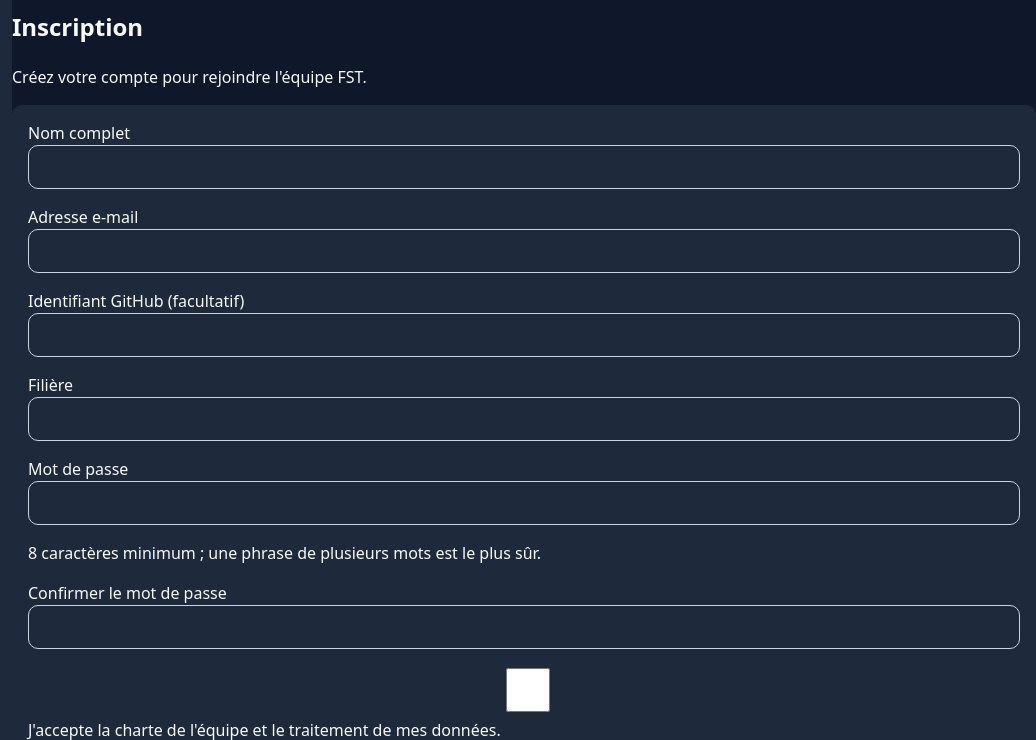
Inscription › refuse un mot de passe trop faible, côté navigateur
The width and height of the screenshot is (1036, 740).
Type "Aïcha Mint Ahmed" into the field labelled "Nom complet" at (524, 167), box [28, 145, 1020, 189]
Type "aicha@example.com" into the field labelled "Adresse e-mail" at (524, 251), box [28, 229, 1020, 273]
Type "sable-dromadaire-7-lune" into the password field labelled "Mot de passe" at (524, 503), box [28, 481, 1020, 525]
(page scrolled)
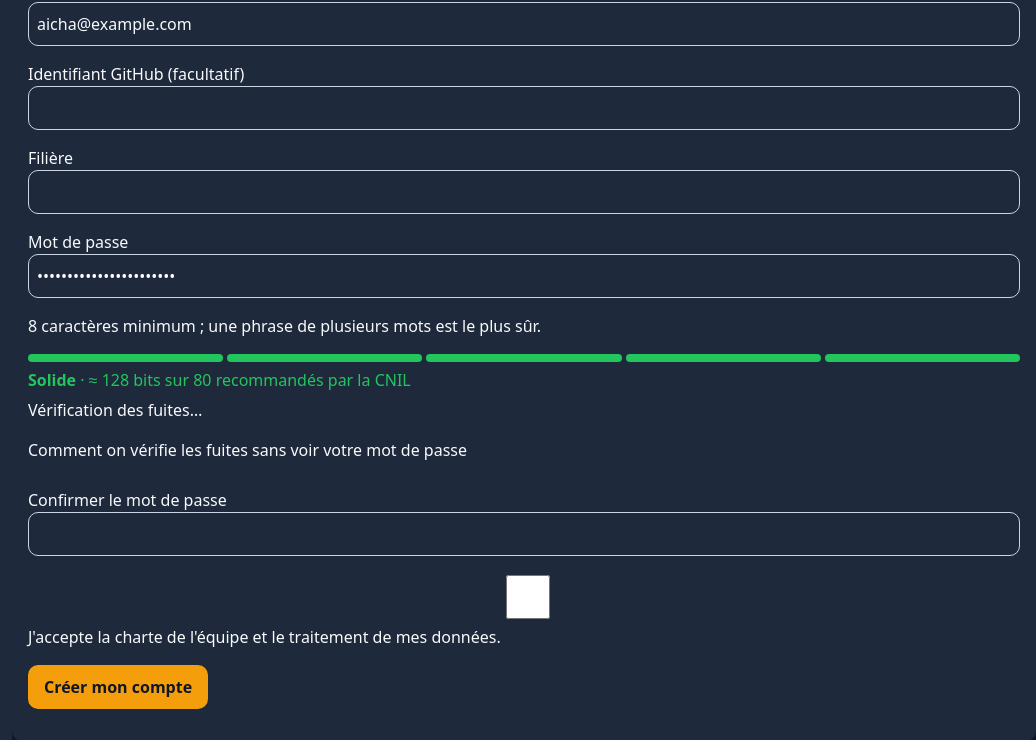
Type "sable-dromadaire-7-lune" into the password field labelled "Confirmer le mot de passe" at (524, 534), box [28, 512, 1020, 556]
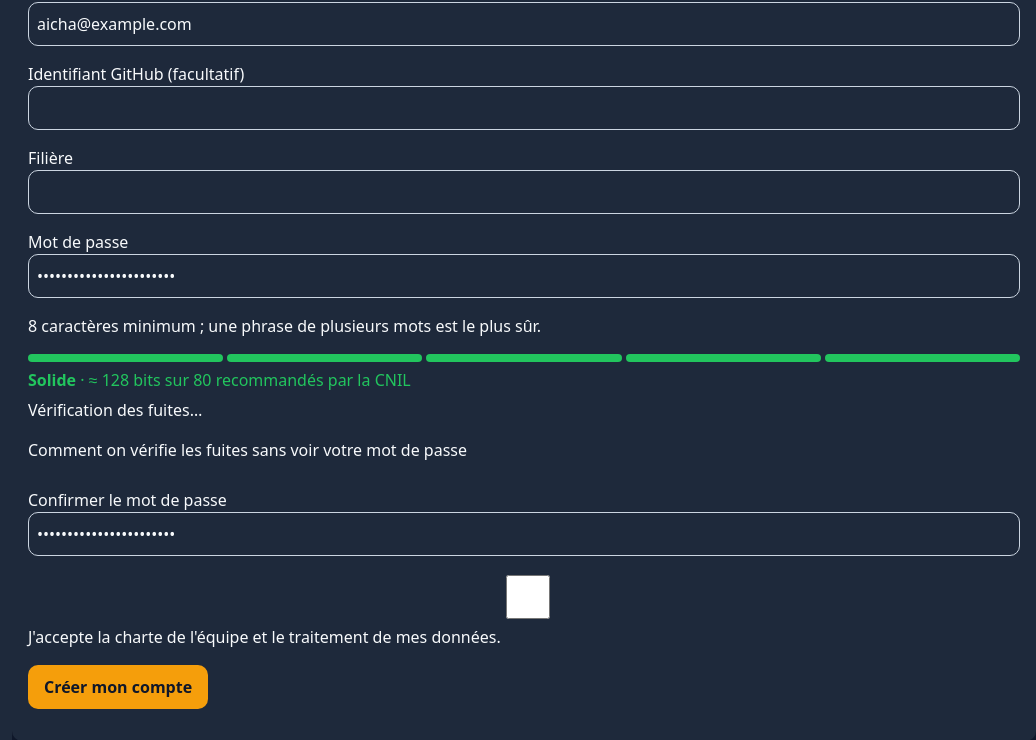
Click the checkbox labelled "J'accepte la charte" at (528, 597), box [32, 575, 1024, 619]
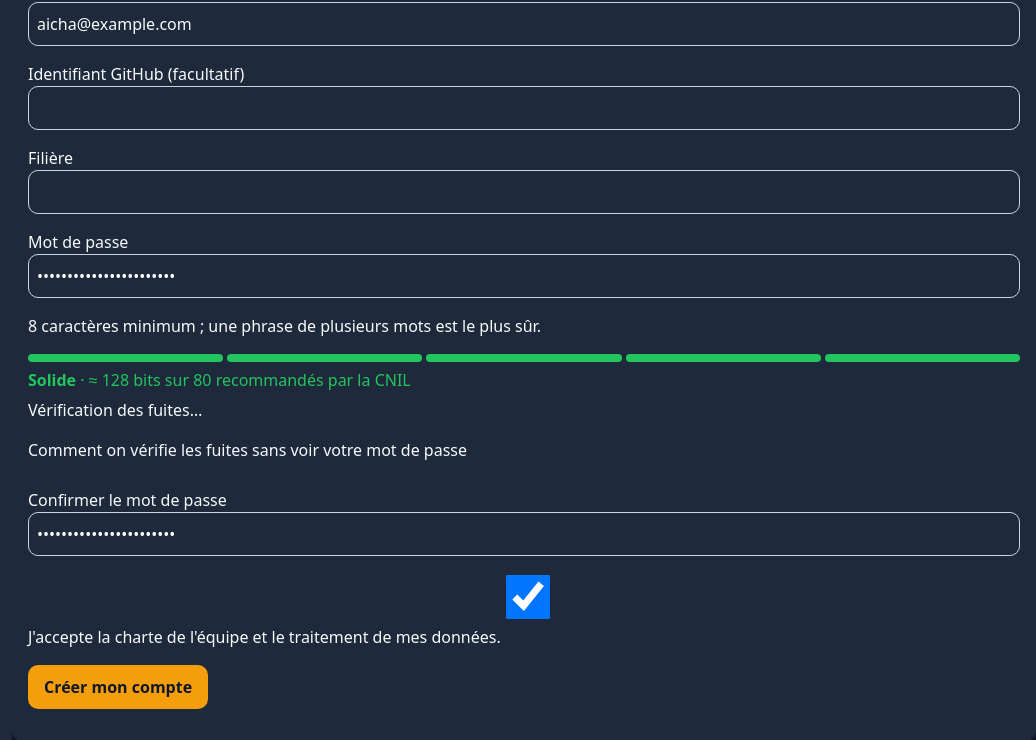
Type "Nouakchott2026" into the password field labelled "Mot de passe" at (524, 276), box [28, 254, 1020, 298]
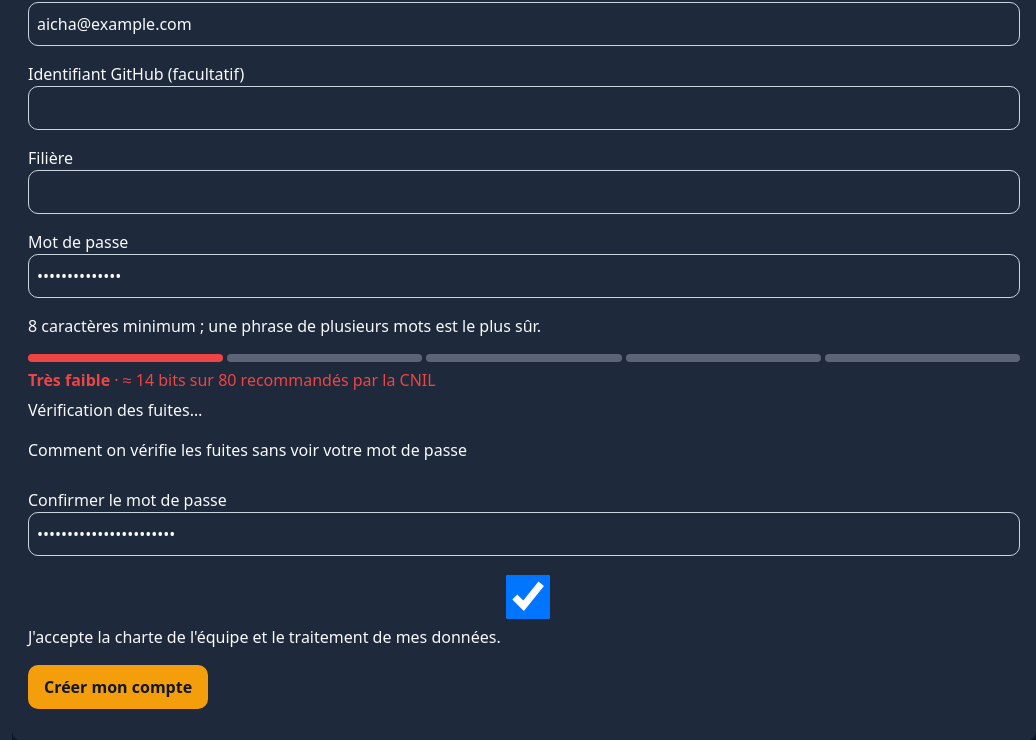
Type "Nouakchott2026" into the password field labelled "Confirmer le mot de passe" at (524, 534), box [28, 512, 1020, 556]
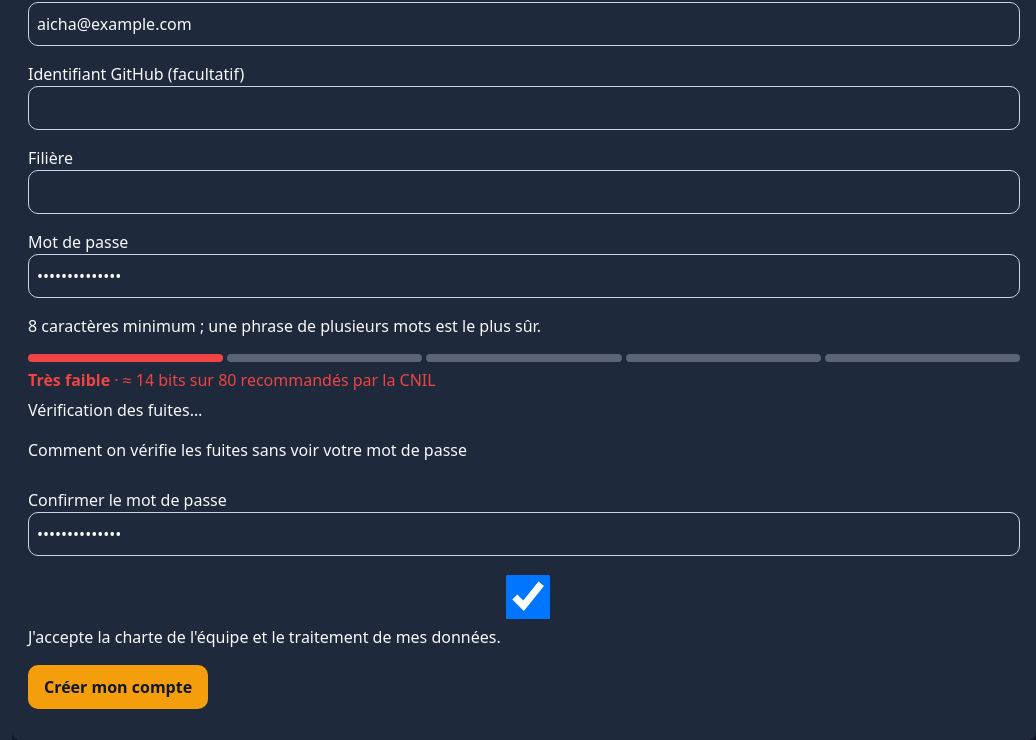
Now the text "Très faible" is shown, box [28, 369, 110, 391]
Click the button "Créer mon compte" at (118, 687), box [28, 665, 208, 709]
(page scrolled)
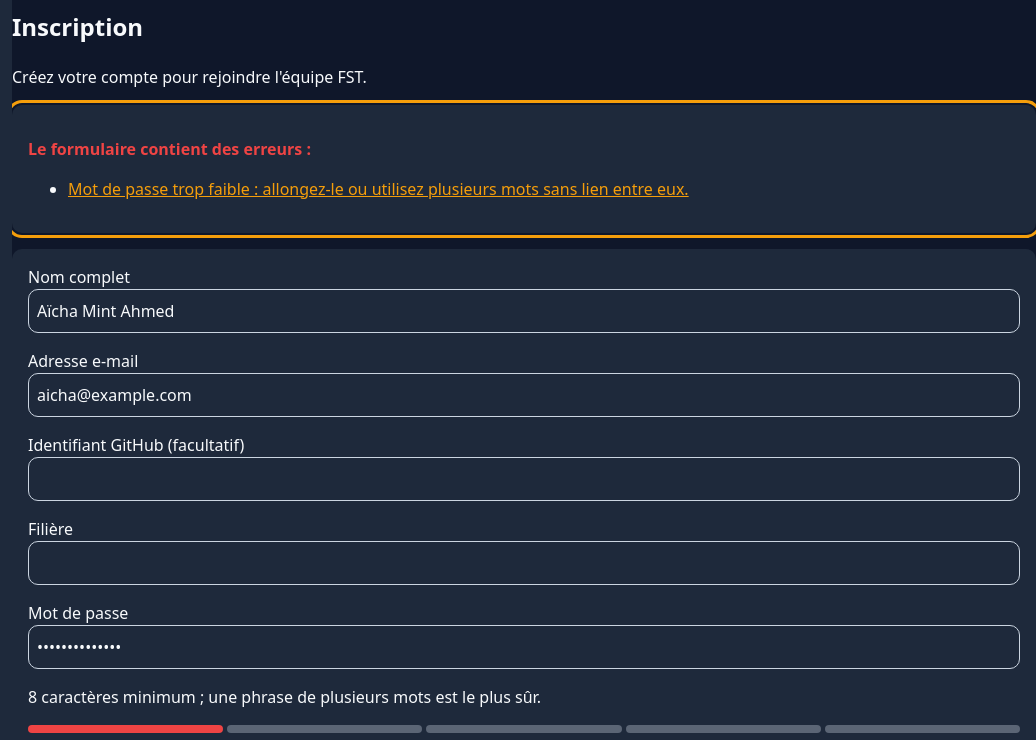
Now the link "Mot de passe trop faible" is shown, box [68, 178, 689, 200]
